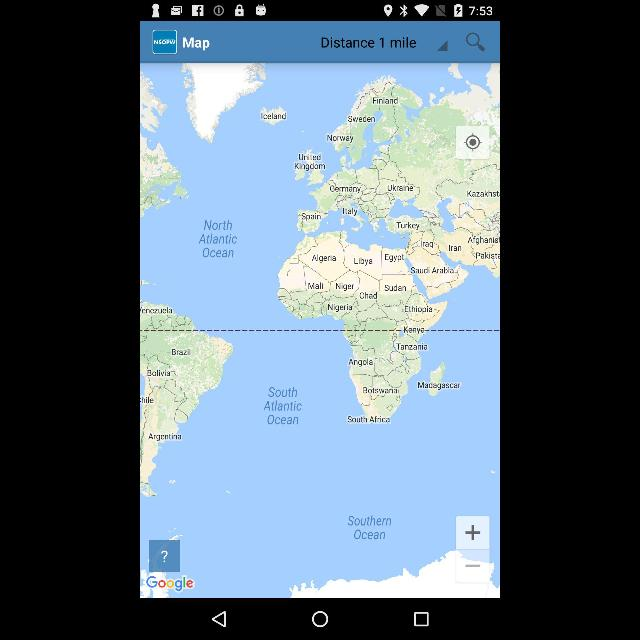icon: (464, 29, 484, 56), (153, 31, 175, 54), (210, 610, 228, 628), (464, 134, 482, 152), (312, 610, 328, 628), (413, 610, 429, 628), (437, 40, 449, 52)
map: (140, 61, 500, 599)
panel: (140, 598, 500, 640)
text: (320, 38, 416, 51), (183, 36, 211, 50)
toolbar: (140, 21, 500, 60)
uppertaskbar: (141, 0, 499, 20)
